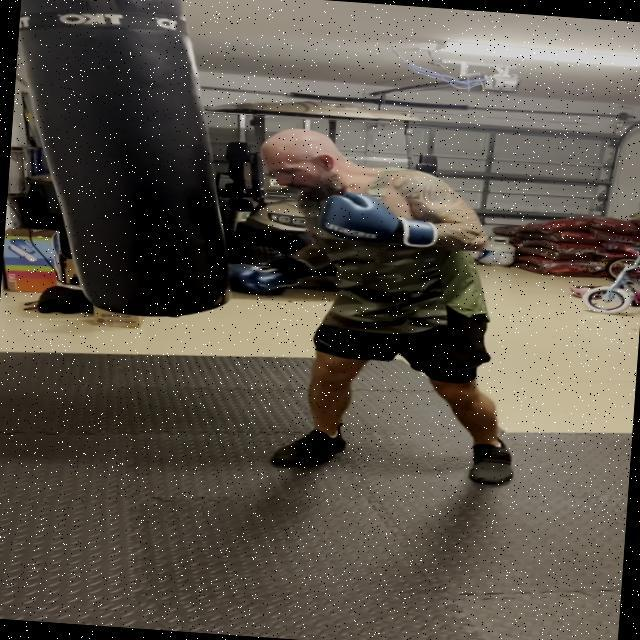uppercut: (183, 120, 482, 324)
